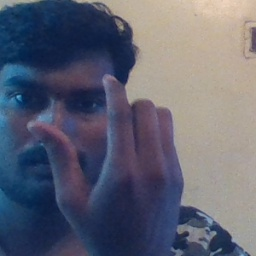U: (39, 74, 191, 245)
